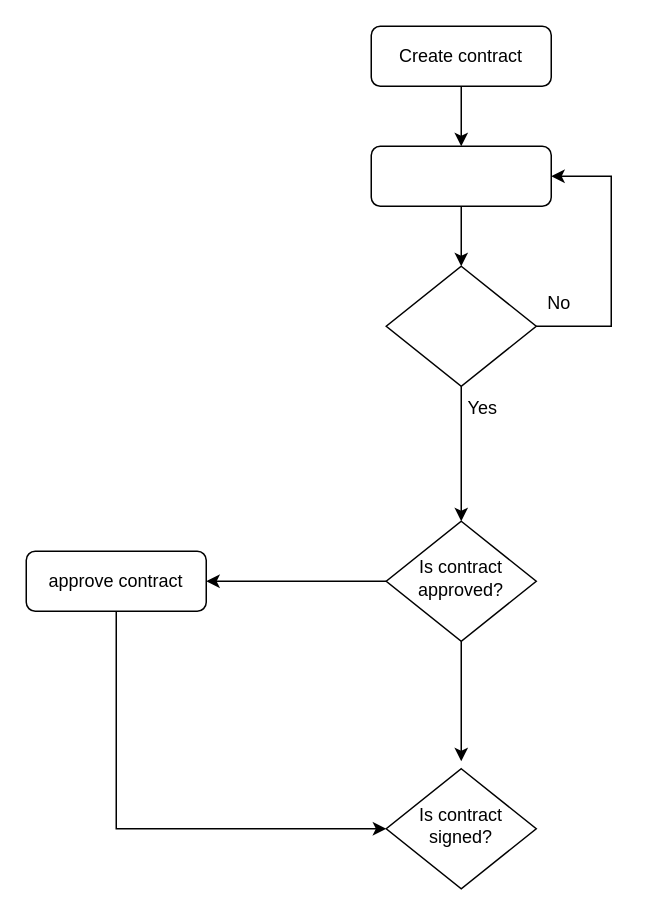
Image size: 650x915. Some labels were removed from this diagram. The centre of each missing label's shape, as x and y in pixels:
"Are terms accepted?" belongs at [460,325].
"Negotiate terms" belongs at [460,175].
